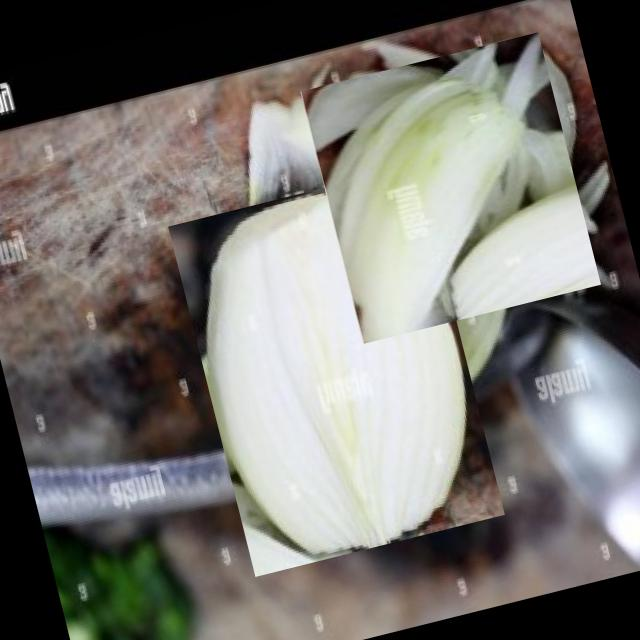Onion: (167, 163, 504, 577), (297, 34, 604, 340)
